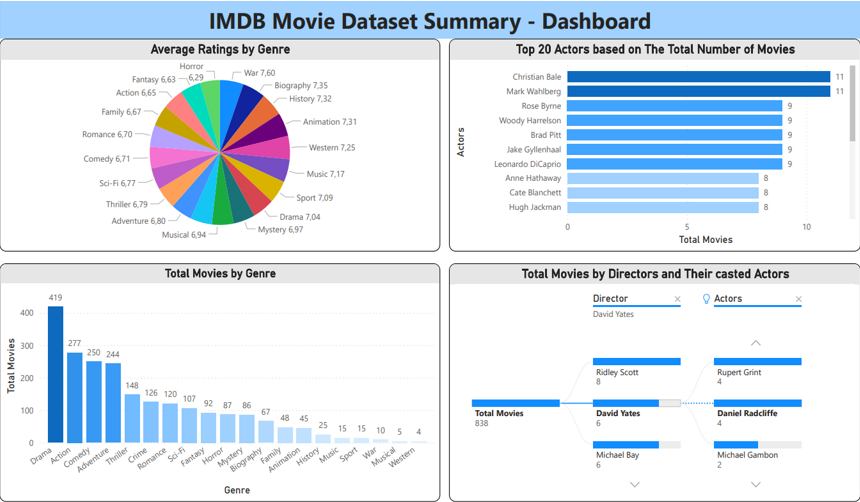

What the dashboard file says about the page in this screenshot:
{"tool":"powerbi","page":{"name":"Dashboard page - 2","canvas":[1280,720],"ordinal":1},"visuals":[{"type":"columnChart","fields":{"Category":["Genre.Genre"],"Y":["Measure.Total Movies"]},"box":[0,377.4,654.5,343.1],"z":0},{"type":"textbox","box":[0,0,1280.3,53.5],"z":2000},{"type":"pieChart","title":"Average  Ratings by Genre","fields":{"Category":["Genre.Genre"],"Y":["Measure.Avg Rating"]},"box":[0,53.5,654.5,306],"z":3000},{"type":"clusteredBarChart","title":"Top 20 Actors based on The Total Number of Movies","fields":{"Category":["Actors.Actors"],"Y":["Measure.Total Movies"]},"box":[668.3,53.5,612,306],"z":4000},{"type":"decompositionTreeVisual","title":"Total Movies by  Directors and Their casted Actors","fields":{"Analyze":["Measure.Total Movies"],"ExplainBy":["imdb_movie_dataset.Director","Actors.Actors"]},"box":[668.3,377.4,612,343.1],"z":5000}]}

Visuals, with their boxes on the page's 1280x720 design canvas (x1, y1, x2, y2). These are canvas units, not pixel positions in the 860x502 screenshot, which may show the page scaled, cropped or inside an application window:
columnChart - Genre.Genre x Measure.Total Movies: x1=0, y1=377, x2=654, y2=720
textbox: x1=0, y1=0, x2=1280, y2=54
"Average  Ratings by Genre" pieChart: x1=0, y1=54, x2=654, y2=360
"Top 20 Actors based on The Total Number of Movies" clusteredBarChart: x1=668, y1=54, x2=1280, y2=360
"Total Movies by  Directors and Their casted Actors" decompositionTreeVisual: x1=668, y1=377, x2=1280, y2=720
